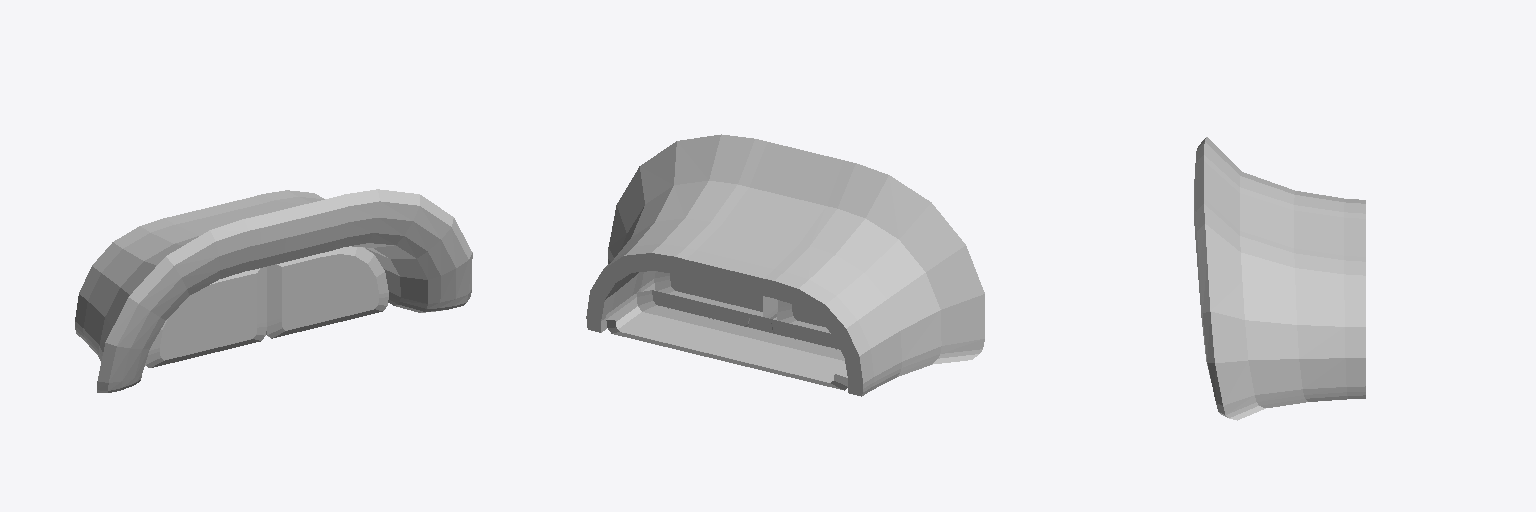
Rendered from couch.obj.
3 views of the same model, side by side, from view 1: azimuth 30°, elevation 25°; view 2: azimuth 150°, elevation 25°; view 3: azimuth 270°, elevation 25° (orthographic).
Visible parts, largest first — view 1: couch; view 2: couch; view 3: couch.
Part boxes in pixels (x1,y1,x2,y2): couch: (75, 189, 472, 392); couch: (586, 134, 984, 396); couch: (1194, 137, 1365, 420).
Size of the model in its own units: 66.9 by 26.25 by 26.43.